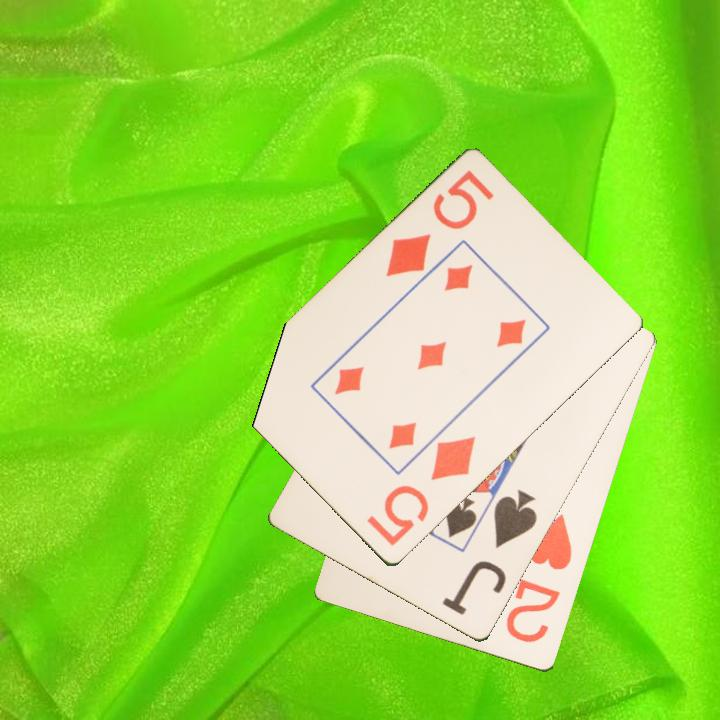2h: (503, 511, 576, 647)
5d: (363, 433, 479, 550), (382, 167, 497, 281)
Js: (438, 486, 541, 619)
